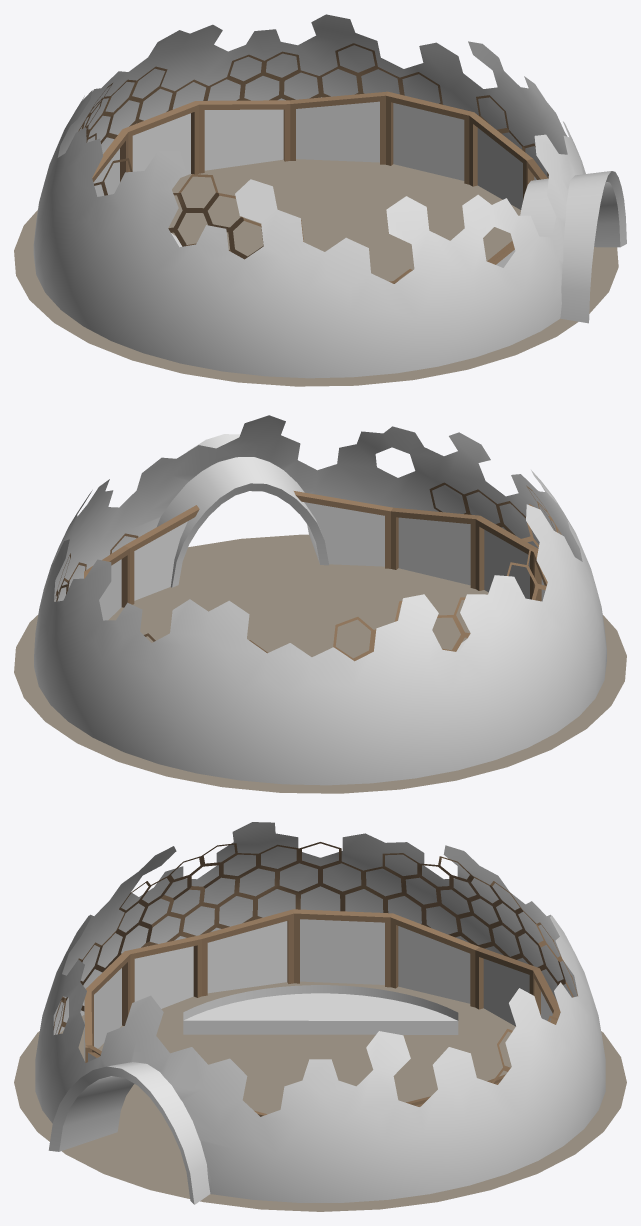
The model's file is BOD_v5_Env.glb.
3 renders of one model, top to bottom at view 1: azimuth 30°, elevation 25°; view 2: azimuth 150°, elevation 25°; view 3: azimuth 270°, elevation 25°, orthographic.
Parts seen in each view (by area): view 1: Dome.005, 円, 円柱.003, Gate, Dome.004; view 2: Dome.005, 円, 円柱.003, Gate, Dome.004; view 3: Dome.005, 円, 円柱.003, Stage, Dome.004, Gate.
Part boxes in pixels (x1,y1,x2,y2): Dome.005: [33, 14, 585, 378]; 円: [14, 159, 618, 386]; 円柱.003: [92, 91, 547, 283]; Gate: [520, 171, 626, 323]; Dome.004: [78, 43, 548, 283]; Dome.005: [34, 415, 606, 785]; 円: [14, 534, 626, 793]; 円柱.003: [84, 491, 547, 620]; Gate: [157, 434, 328, 587]; Dome.004: [54, 482, 561, 661]; Dome.005: [35, 822, 605, 1202]; 円: [14, 981, 626, 1211]; 円柱.003: [84, 909, 560, 1116]; Stage: [183, 985, 458, 1034]; Dome.004: [53, 842, 577, 1083]; Gate: [48, 1062, 210, 1204].
Bounding box in the file's own units: 2 × 0.6359 × 2.
